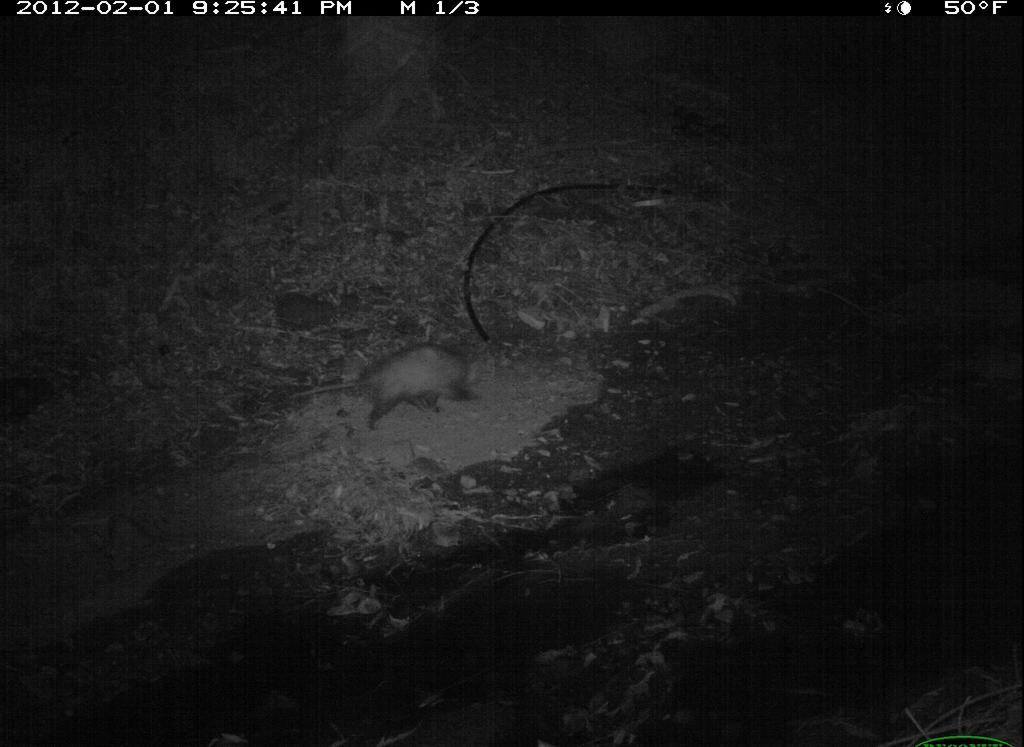opossum: (294, 342, 495, 438)
